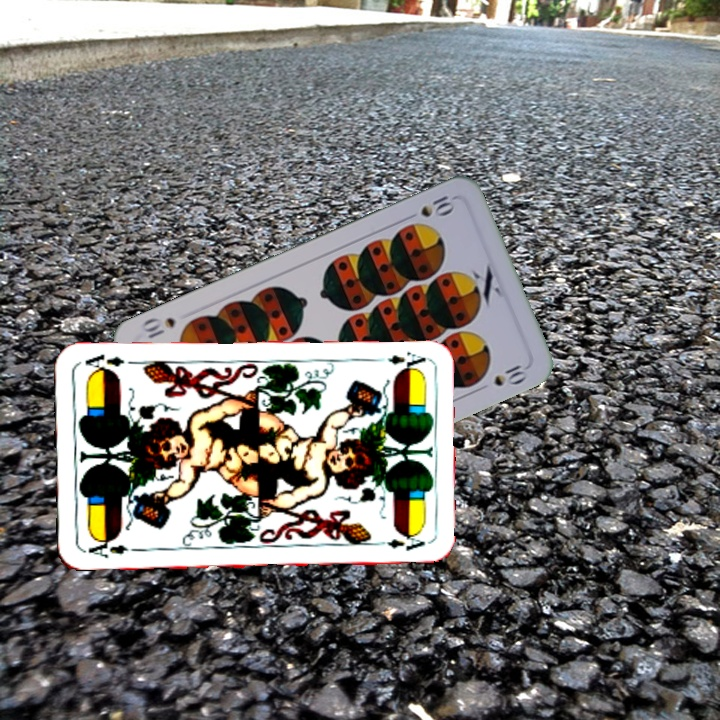EA: (369, 348, 428, 374), (80, 534, 130, 560)
S10: (401, 191, 457, 223)
